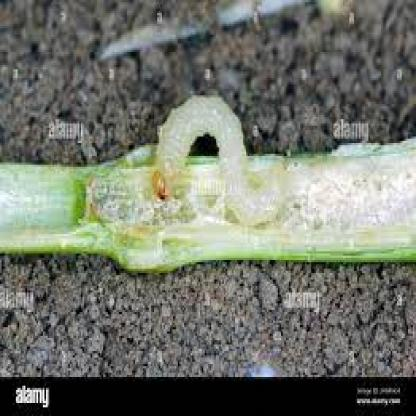sawfly: (152, 90, 289, 232)
